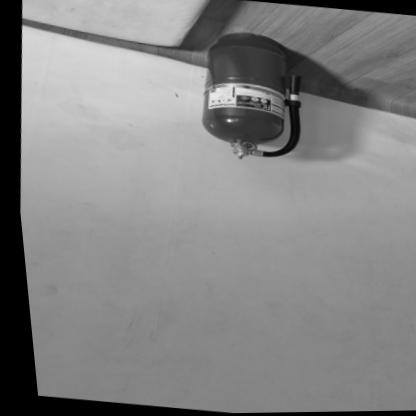FE: (190, 28, 309, 164)
